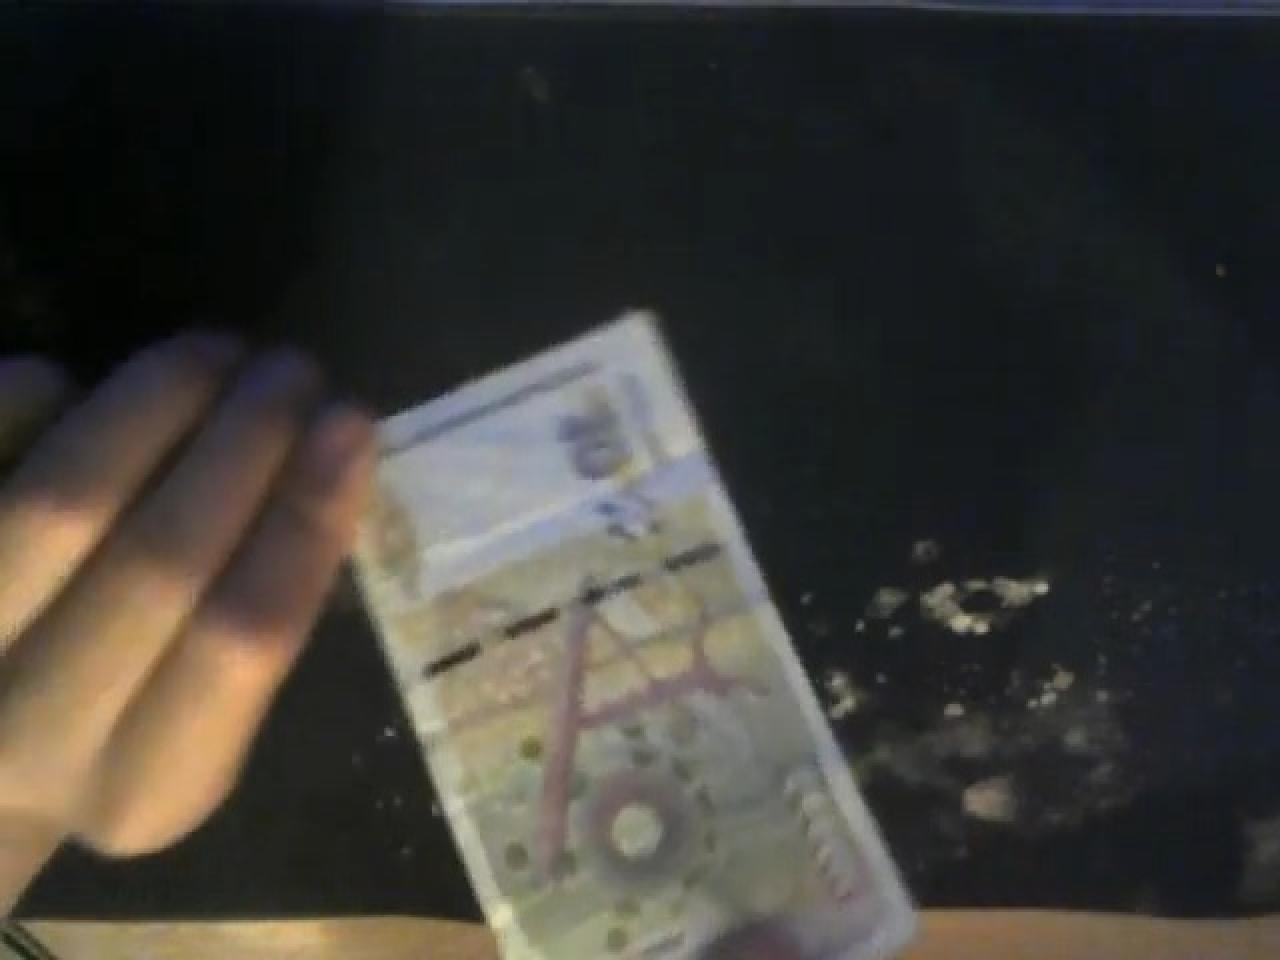10leva: (350, 304, 920, 960)
